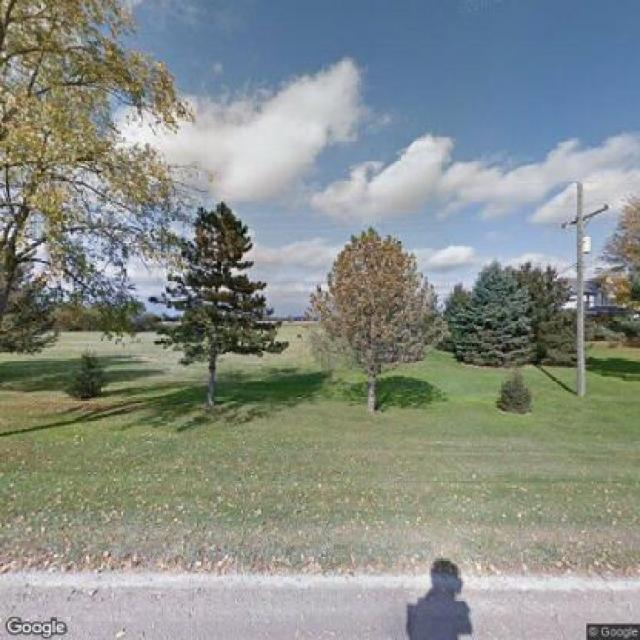pole: (550, 182, 612, 395)
